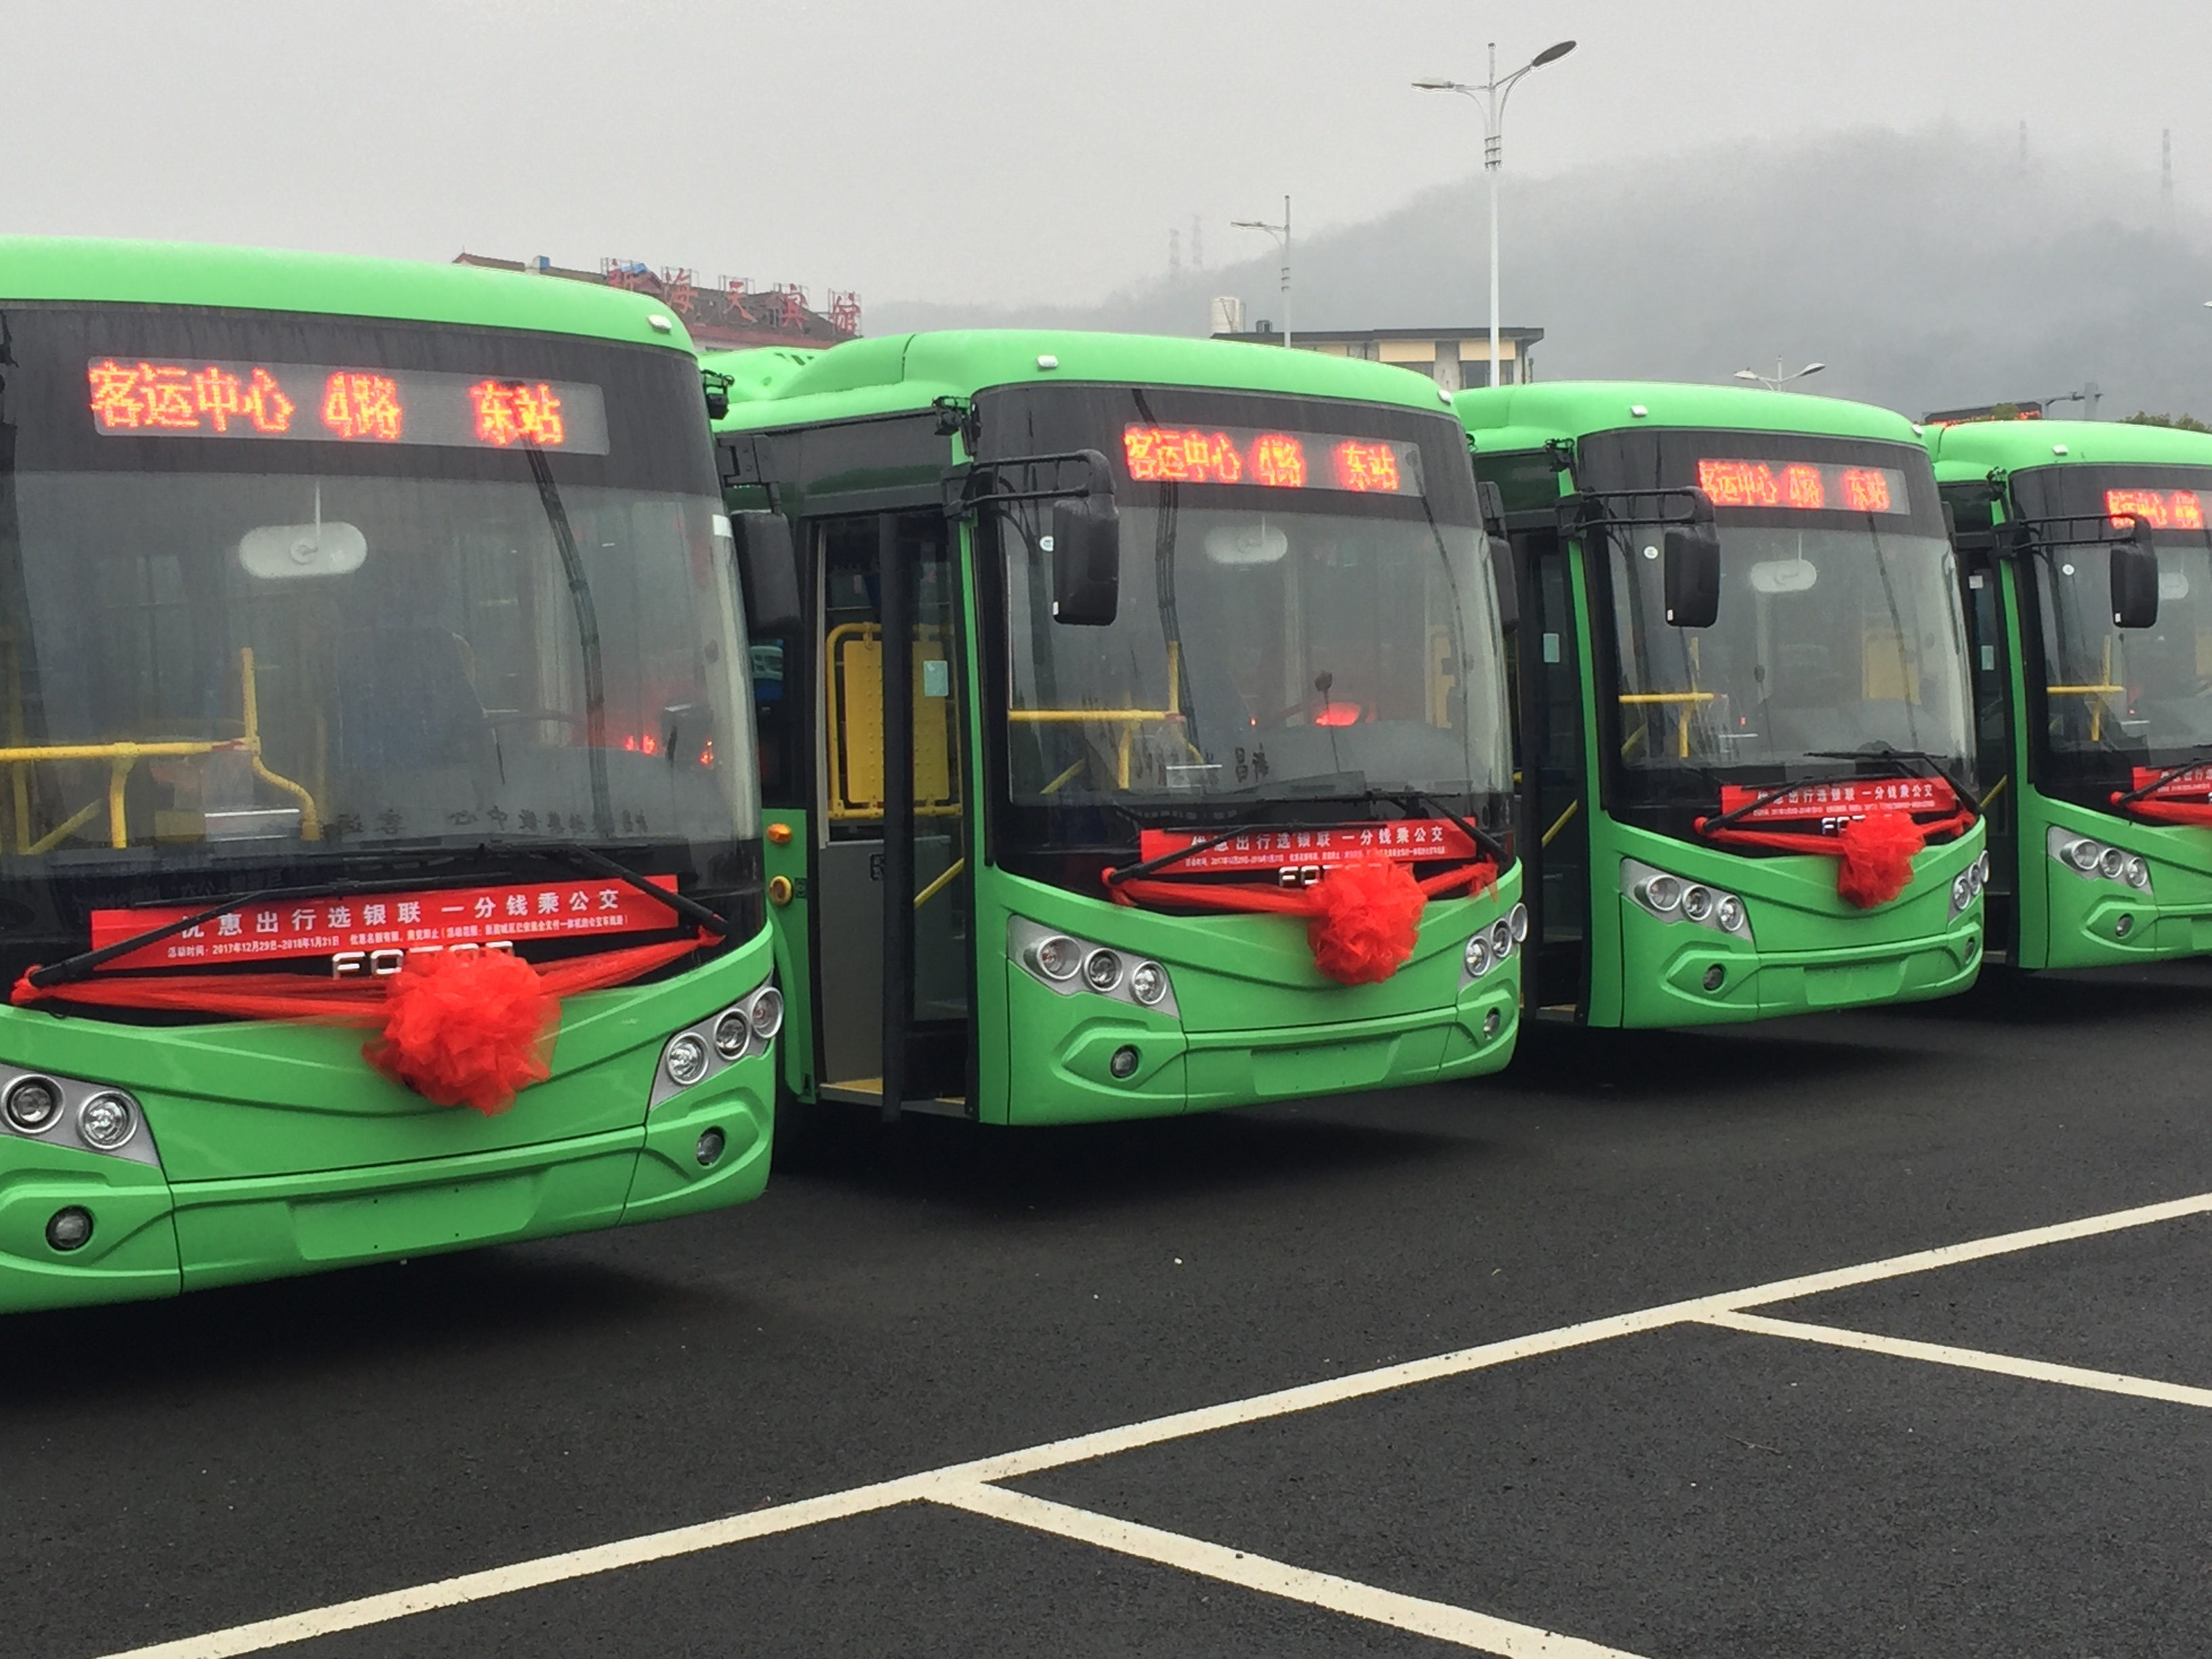bus: (725, 342, 1527, 1138)
